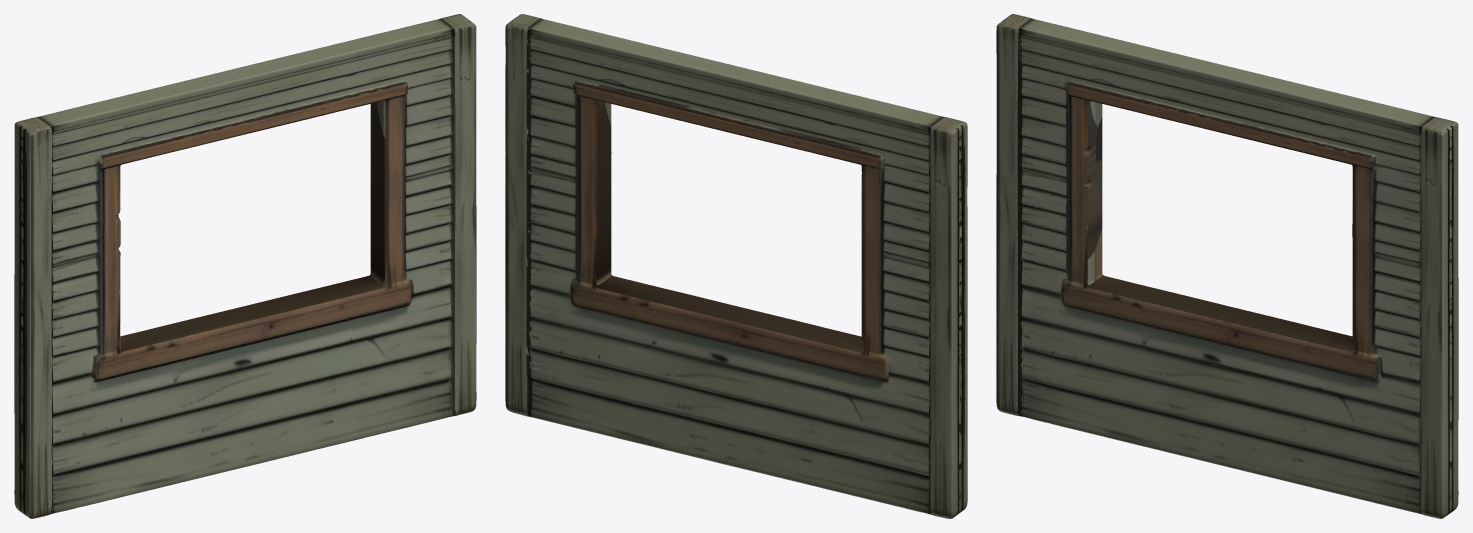
File: Wall-Clapboard-3.glb
3 views of the same model, side by side, from view 1: azimuth 30°, elevation 25°; view 2: azimuth 150°, elevation 25°; view 3: azimuth 330°, elevation 25° (orthographic).
Visible parts, largest first — view 1: tmpnyk6y9u5.ply; view 2: tmpnyk6y9u5.ply; view 3: tmpnyk6y9u5.ply.
Part boxes in pixels (bbox=[...]): tmpnyk6y9u5.ply: bbox=[14, 14, 476, 518]; tmpnyk6y9u5.ply: bbox=[505, 14, 967, 518]; tmpnyk6y9u5.ply: bbox=[996, 14, 1458, 518].
Size of the model in its own units: 3 by 2.5 by 0.2.
Materials: 1 (1 with a texture image).
